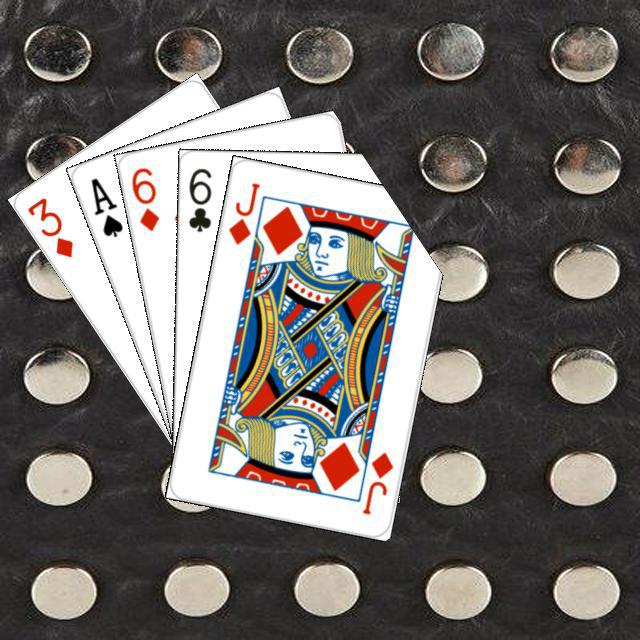3d: (22, 192, 75, 260)
6c: (183, 163, 213, 234)
6d: (126, 162, 161, 233)
As: (86, 172, 125, 239)
Jd: (223, 177, 262, 247), (357, 447, 395, 516)
